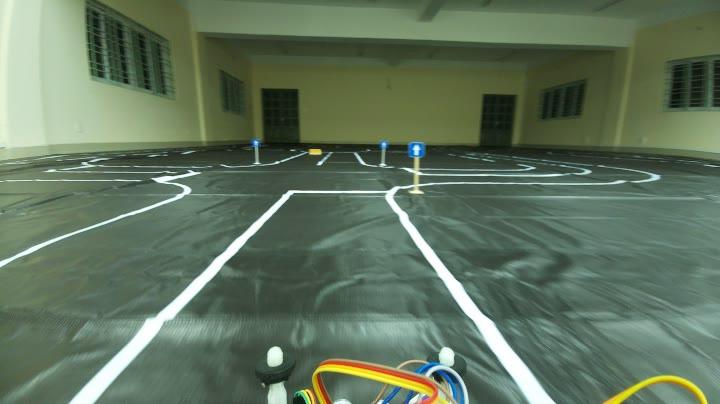onewayroad: (407, 141, 428, 157), (378, 139, 390, 149), (252, 136, 263, 146)
roadblock: (308, 146, 328, 156)
